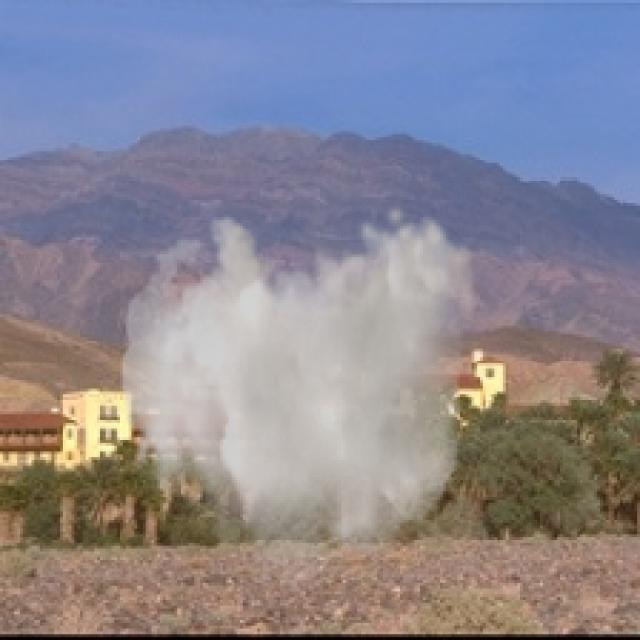smoke: (120, 200, 477, 606)
